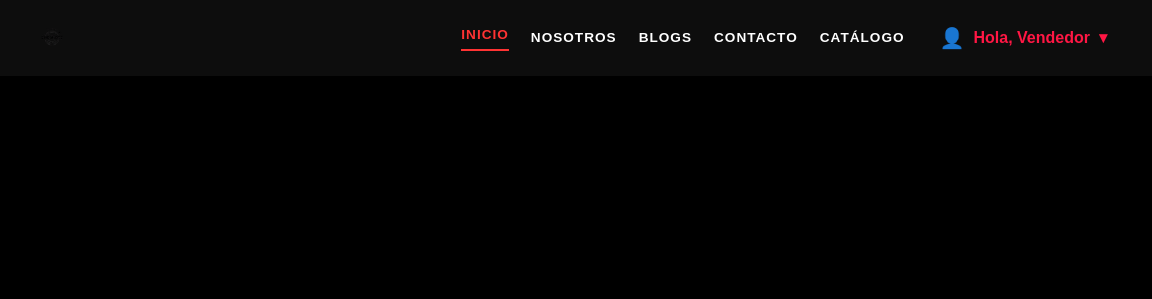
Test: Facture Sneakers - Navbar › debe mostrar solo el panel vendedor y cerrar sesión a un vendedor
Click the button "👤 Hola, Vendedor ▾" at (1023, 38), box left=926, top=12, right=1120, bottom=64
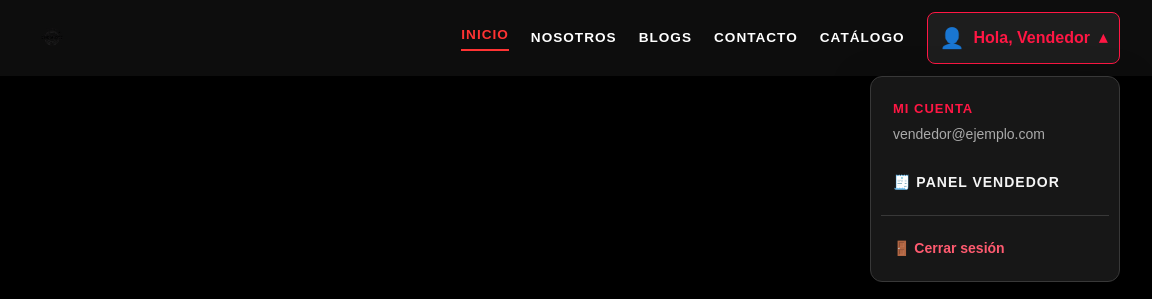
Now the button "🚪 Cerrar sesión" is shown, box left=881, top=226, right=1109, bottom=270
